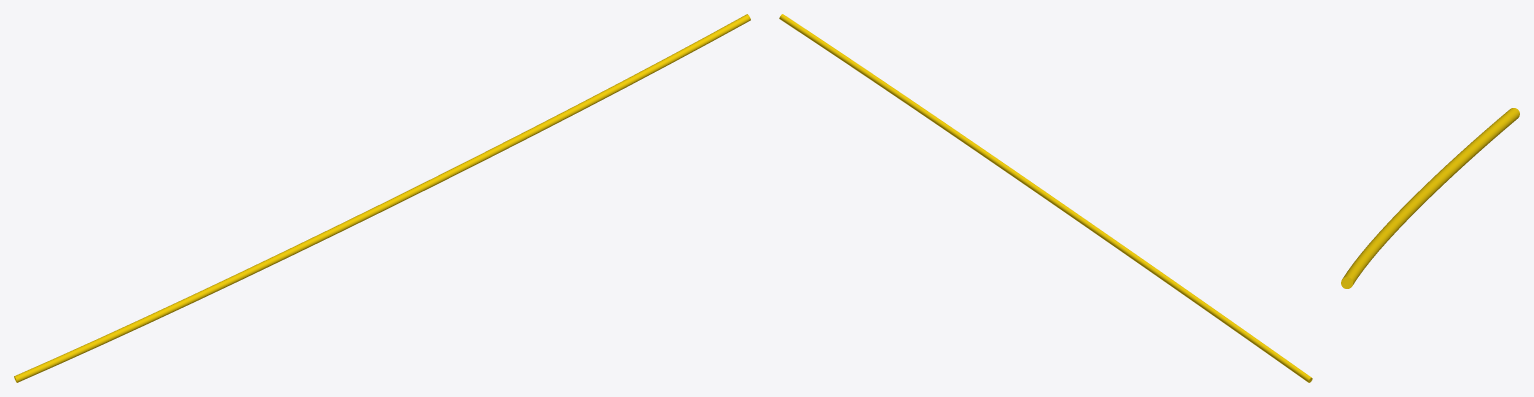
The model's file is Event_420107950_track_76.fbx.
The picture shows the model from 3 angles, left to right: view 1: azimuth 30°, elevation 25°; view 2: azimuth 150°, elevation 25°; view 3: azimuth 270°, elevation 25°; orthographic projection. The views are drawn at different scales.
Parts seen in each view (by area): view 1: Model; view 2: Model; view 3: Model.
Boxes of the visible parts, x1,y1,x2,y2 form: Model: (14,14,750,382); Model: (779,14,1312,382); Model: (1341,108,1519,288).
Size of the model in its own units: 4.32 by 1.44 by 0.5847.
